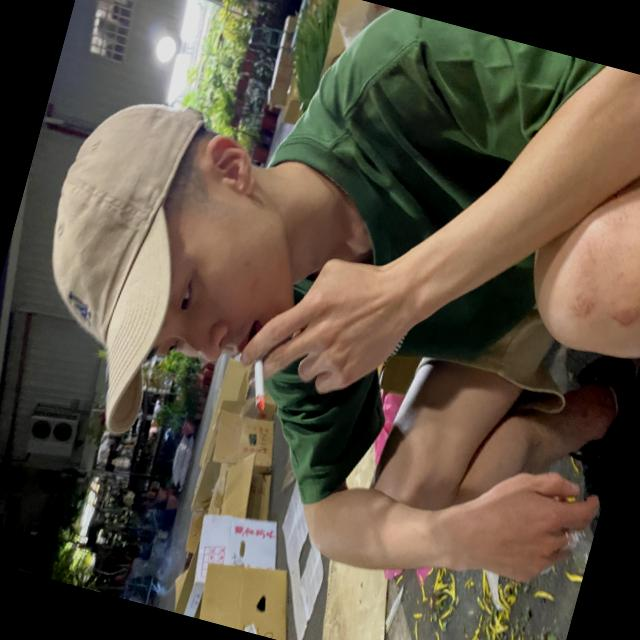cigarette: (230, 336, 290, 426)
